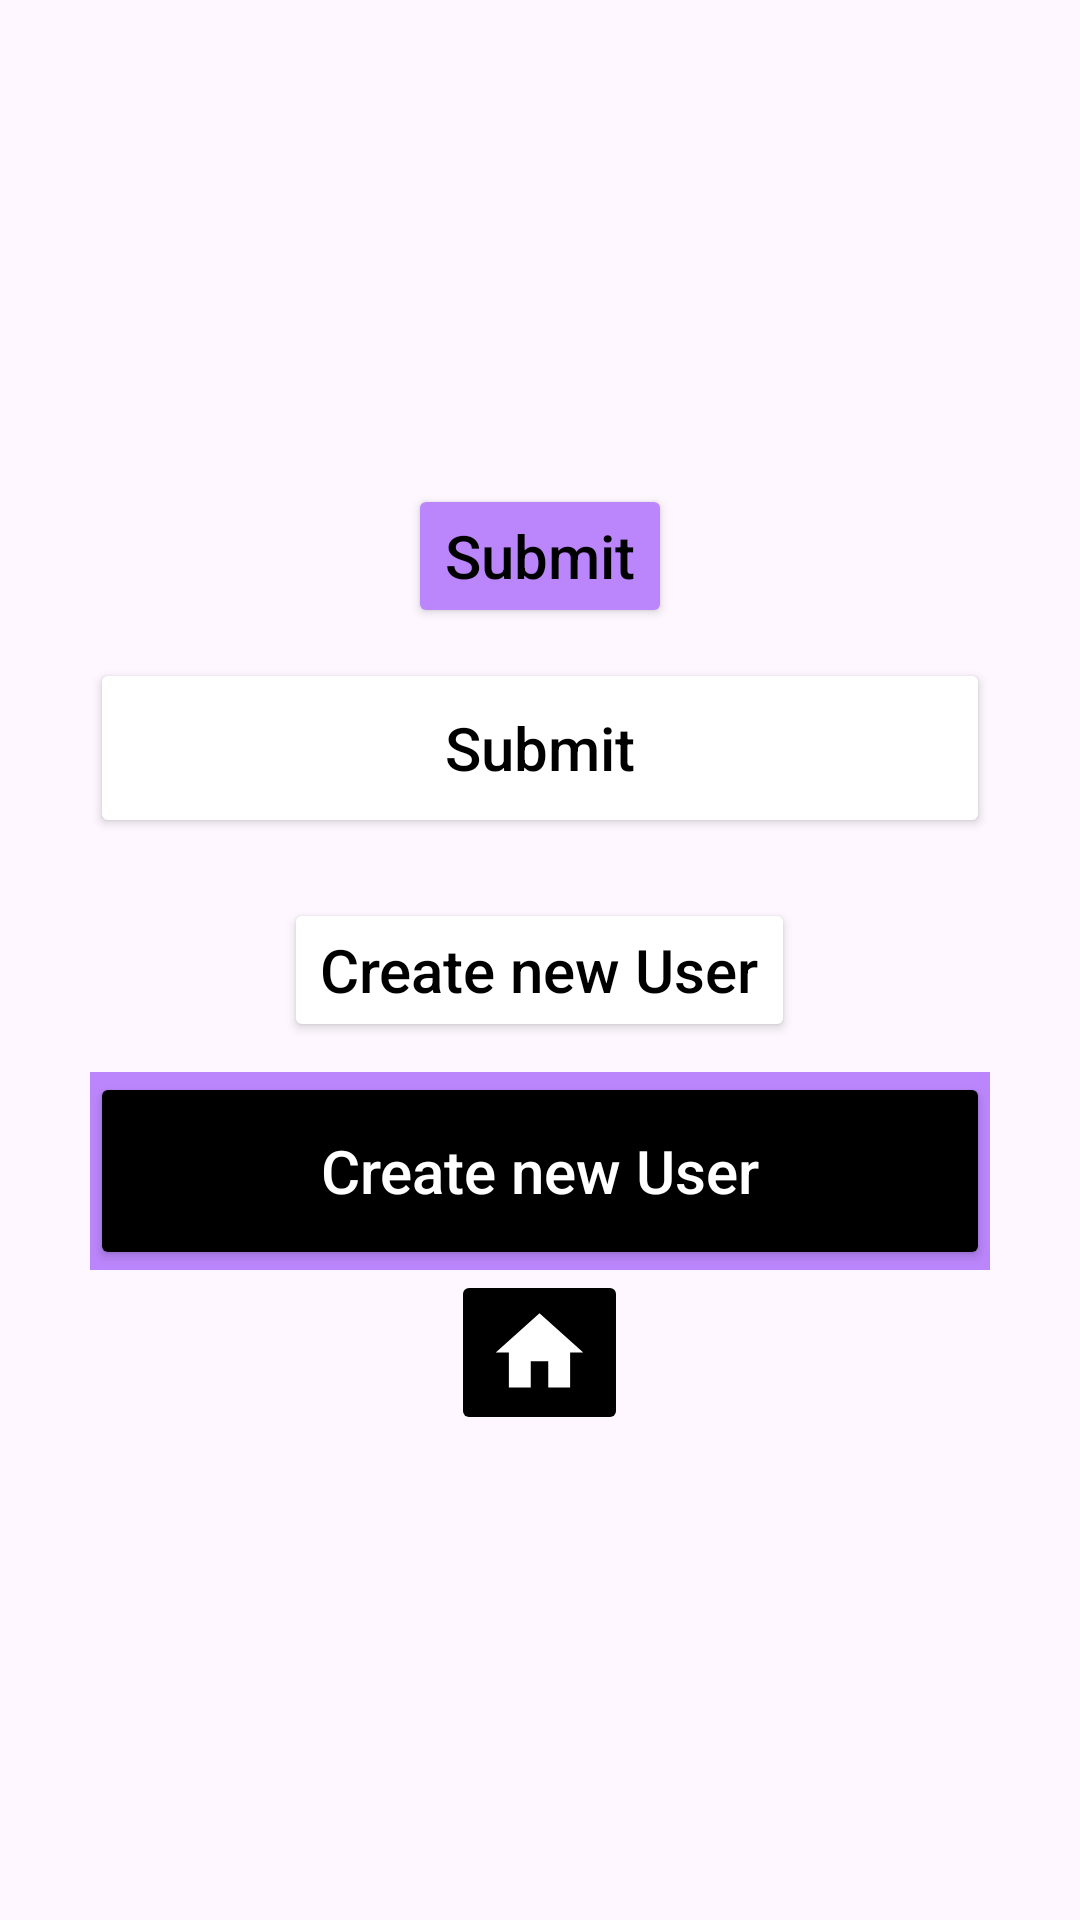

Icons on this 1080 × 1920 Android screen, each with its box as (x1, y1, x2, y2):
home: (463, 1288, 616, 1417)
